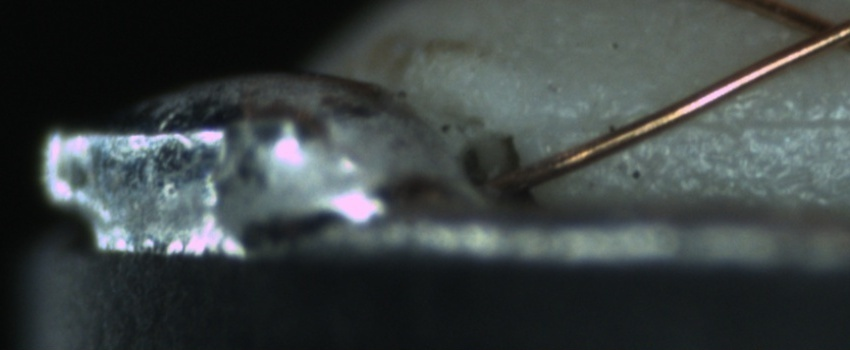CL: (778, 3, 849, 62)
DL: (548, 91, 849, 151)
